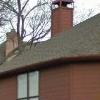Chimney: (47, 0, 76, 37)
